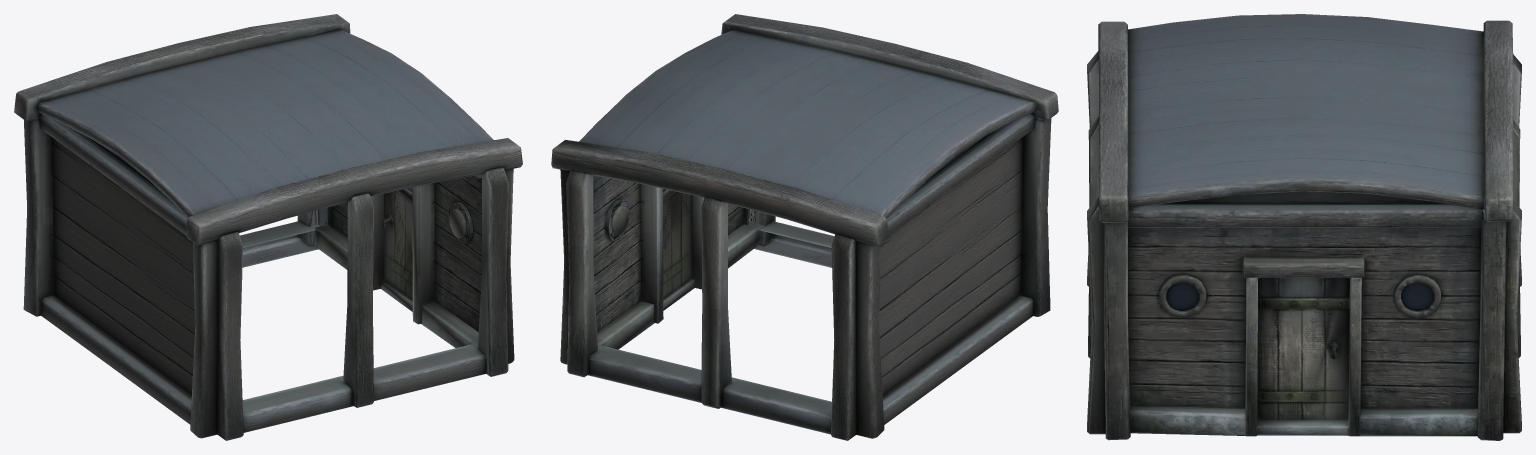
Rendered from deckhouse.glb.
The picture shows the model from 3 angles, left to right: view 1: azimuth 30°, elevation 25°; view 2: azimuth 150°, elevation 25°; view 3: azimuth 270°, elevation 25°; orthographic projection. The views are drawn at different scales.
Visible parts, largest first — view 1: model; view 2: model; view 3: model.
Boxes of the visible parts, bbox=[...] form: model: bbox=[14, 14, 522, 440]; model: bbox=[551, 14, 1058, 440]; model: bbox=[1087, 14, 1521, 440].
Size of the model in its own units: 1.48 by 1 by 1.5.
Materials: 1 (1 with a texture image).
